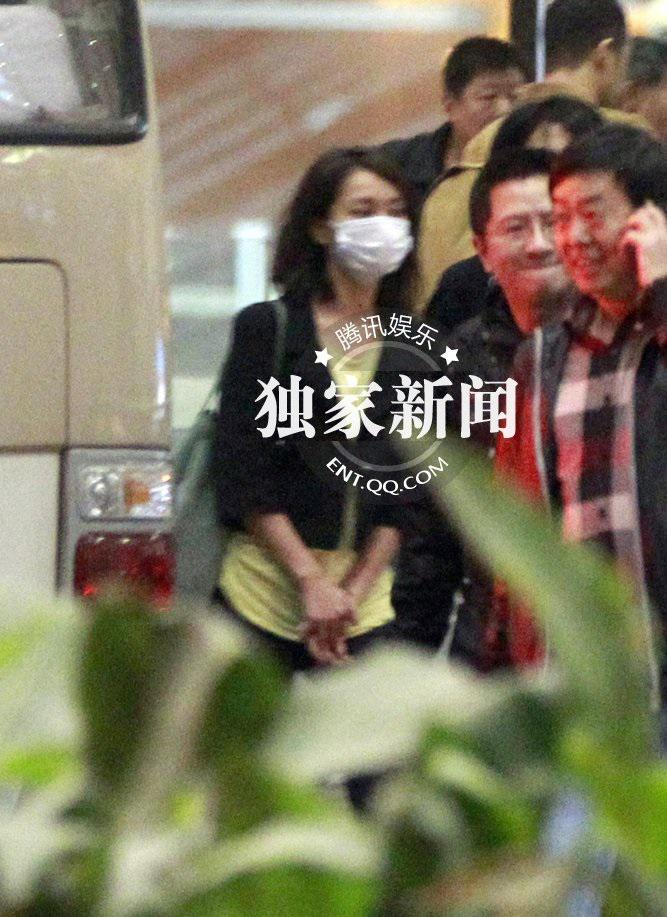NONE: (490, 202, 580, 297), (556, 192, 641, 291), (466, 83, 527, 146)
OK: (323, 188, 418, 283)
